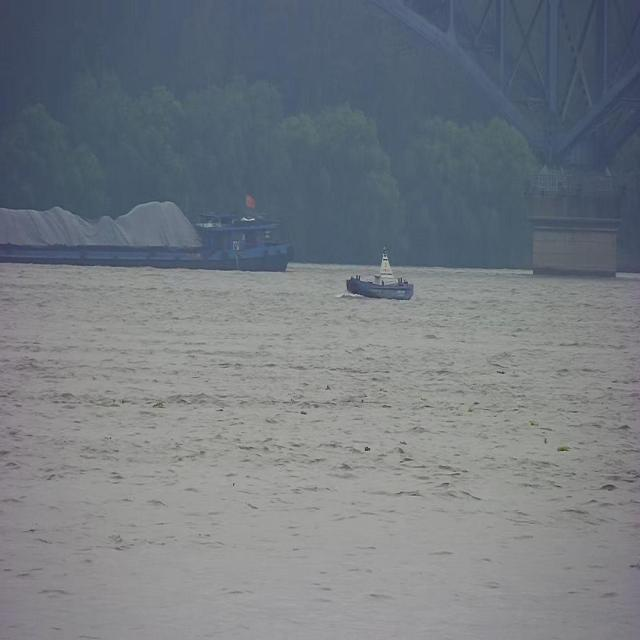CIV_Ship: (342, 236, 419, 306)
